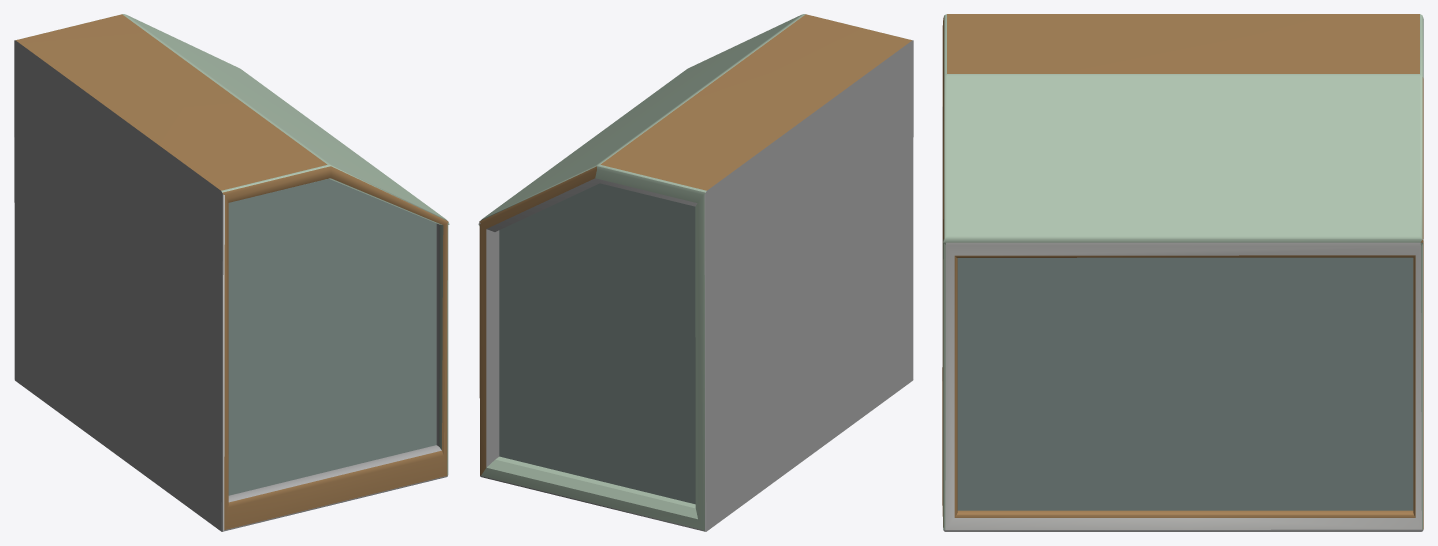
The model's file is cabinet_side.fbx.
The picture shows the model from 3 angles, left to right: view 1: azimuth 30°, elevation 25°; view 2: azimuth 150°, elevation 25°; view 3: azimuth 270°, elevation 25°; orthographic projection. The views are drawn at different scales.
Visible parts, largest first — view 1: polySurface3; view 2: polySurface3; view 3: polySurface3.
Part boxes in pixels (x1,y1,x2,y2): polySurface3: (14, 14, 449, 531); polySurface3: (478, 14, 913, 531); polySurface3: (942, 14, 1423, 531).
Size of the model in its own units: 2.21 by 3.17 by 3.53.
